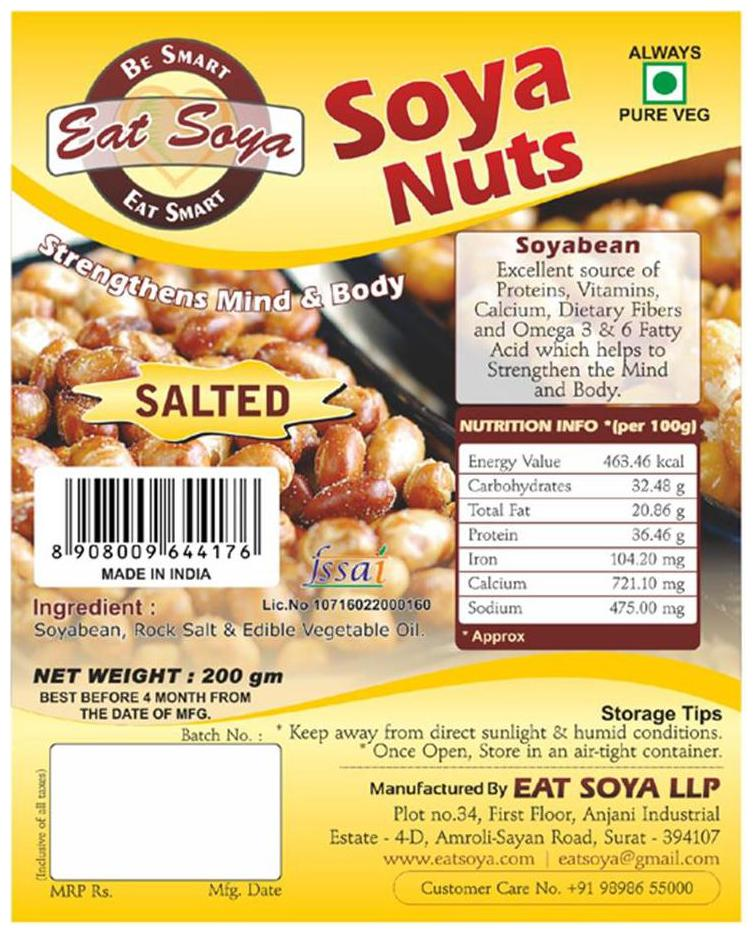fssai: (297, 543, 390, 590)
